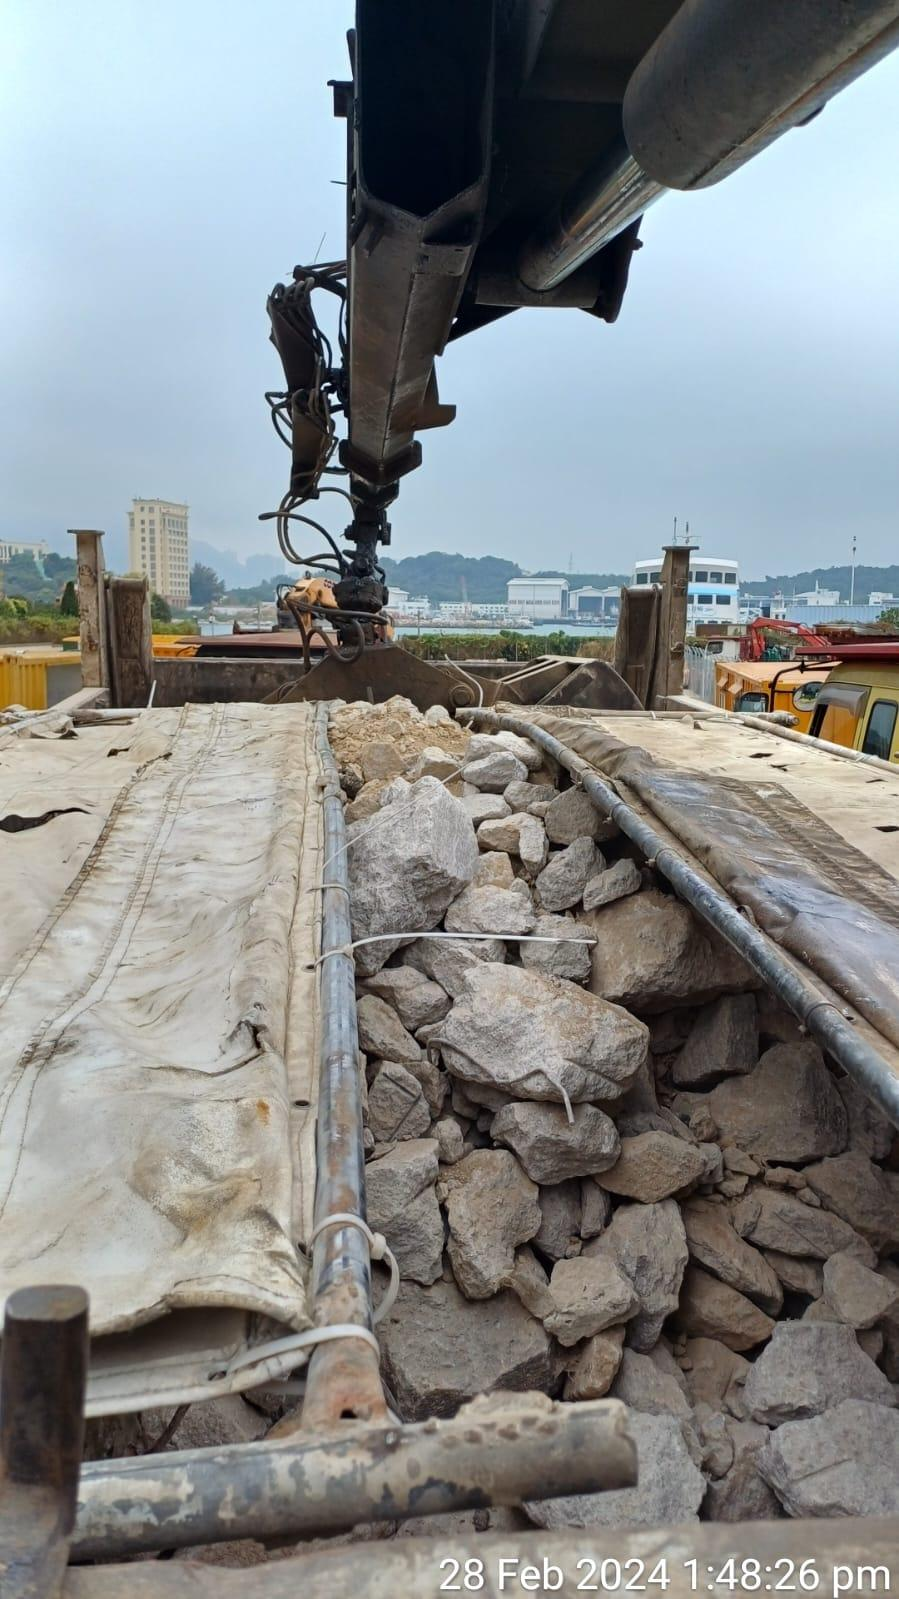dry: (348, 711, 873, 1516)
